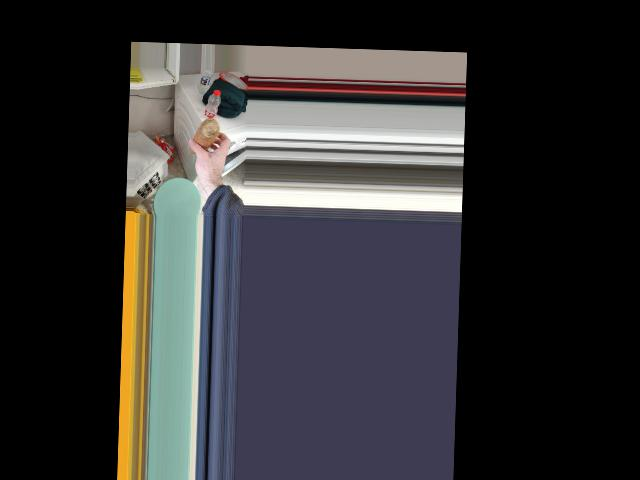sweet_potato: (187, 119, 221, 159)
